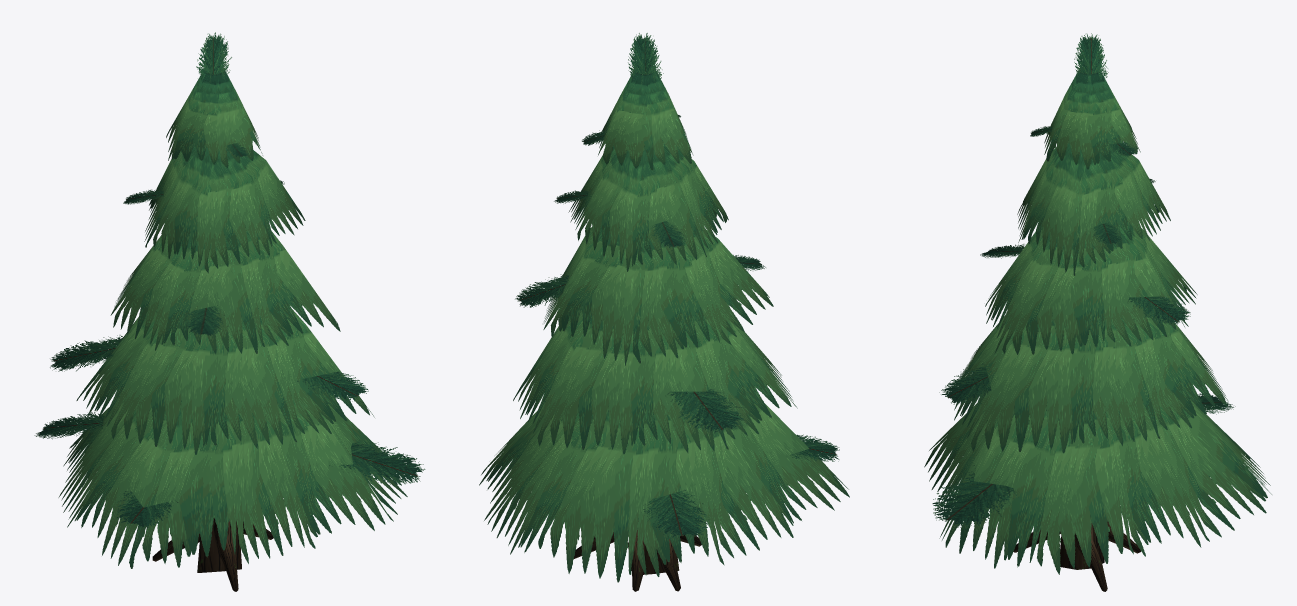
The model's file is tree_pine_a.glb.
3 renders of one model, left to right at view 1: azimuth 30°, elevation 25°; view 2: azimuth 150°, elevation 25°; view 3: azimuth 270°, elevation 25°, orthographic.
Visible parts, largest first — view 1: tree_pine_a; view 2: tree_pine_a; view 3: tree_pine_a.
Boxes of the visible parts, x1,y1,x2,y2 form: tree_pine_a: (34, 32, 425, 591); tree_pine_a: (479, 33, 849, 591); tree_pine_a: (924, 33, 1271, 591).
Bounding box in the file's own units: 3.73 × 5.41 × 3.66.
Materials: 2 (2 with a texture image).
